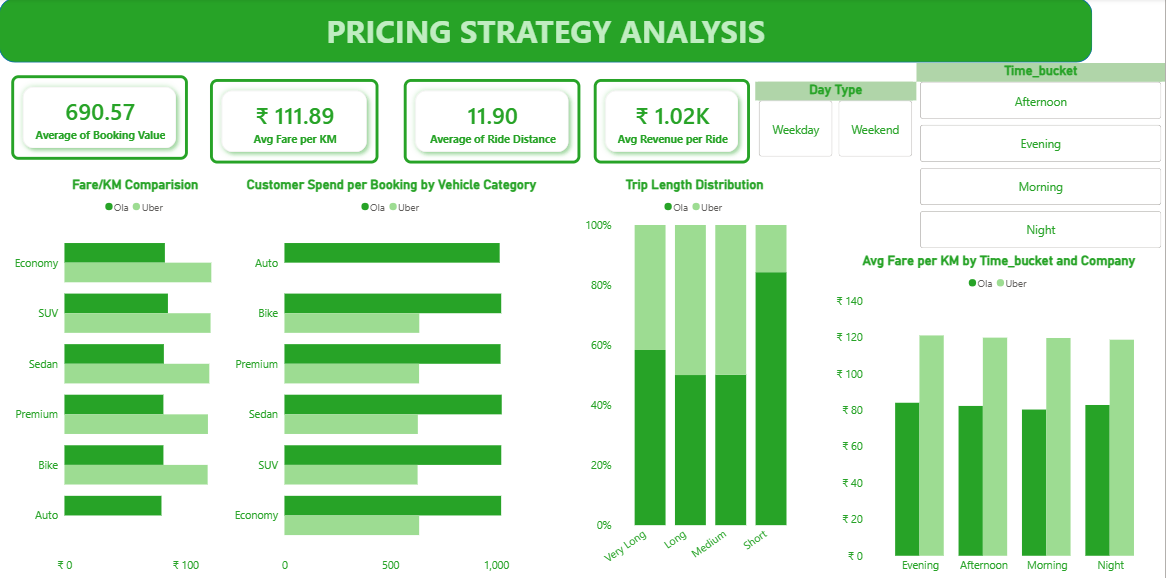

Layout of this report page (visuals, bound fields, positions):
{"tool":"powerbi","page":{"name":"Page 2","canvas":[1600,800],"ordinal":1},"visuals":[{"type":"shape","box":[0,0,1500.3,88.4],"z":0},{"type":"textbox","box":[0,9.6,1500.3,69.1],"z":1000},{"type":"cardVisual","fields":{"Data":["Avg(Total_Data_Ola&Uber.Booking Value)"]},"box":[0,89.2,276.2,150.9],"z":2000},{"type":"cardVisual","fields":{"Data":["Total_Data_Ola&Uber.Avg Fare per KM"]},"box":[272.7,94.3,265.9,150.9],"z":3000},{"type":"cardVisual","fields":{"Data":["Avg(Total_Data_Ola&Uber.Ride Distance)"]},"box":[538.6,94.3,276.2,150.9],"z":4000},{"type":"cardVisual","fields":{"Data":["Total_Data_Ola&Uber.Avg Revenue per Ride"]},"box":[799.3,94.3,248.7,150.9],"z":5000},{"type":"clusteredBarChart","title":"Fare/KM Comparision","fields":{"Category":["Total_Data_Ola&Uber.Vehicle_Category"],"Series":["Total_Data_Ola&Uber.Company"],"Y":["Total_Data_Ola&Uber.Avg Fare per KM"]},"box":[12,245.3,349.9,554],"z":6000},{"type":"hundredPercentStackedColumnChart","title":"Trip Length Distribution","fields":{"Category":["Total_Data_Ola&Uber.Distance Category"],"Series":["Total_Data_Ola&Uber.Company"],"Y":["Avg(Total_Data_Ola&Uber.Ride Distance)"]},"box":[799.3,245.3,310.5,554],"z":7000},{"type":"clusteredBarChart","title":"Customer Spend per Booking by Vehicle Category","fields":{"Category":["Total_Data_Ola&Uber.Vehicle_Category"],"Y":["Avg(Total_Data_Ola&Uber.Booking Value)"],"Series":["Total_Data_Ola&Uber.Company"]},"box":[313.9,245.3,449.4,554],"z":8000},{"type":"advancedSlicerVisual","title":"Day Type","fields":{"Values":["Total_Data_Ola&Uber.Day_Type"]},"box":[1037.7,114.9,221.3,108.1],"z":9000},{"type":"advancedSlicerVisual","fields":{"Values":["Total_Data_Ola&Uber.Time_bucket"]},"box":[1259,89.2,341.3,260.7],"z":10000},{"type":"clusteredColumnChart","fields":{"Category":["Total_Data_Ola&Uber.Time_bucket"],"Y":["Total_Data_Ola&Uber.Avg Fare per KM"],"Series":["Total_Data_Ola&Uber.Company"]},"box":[1144.1,349.9,456.3,449.4],"z":11000}]}

Visuals, with their boxes in screenshot pixels (x1, y1, x2, y2), scaled from the page's 1600x800 canvas onto the 1166x578 screenshot:
shape: 0,0,1093,64
textbox: 0,7,1093,57
cardVisual - Avg(Total_Data_Ola&Uber.Booking Value): 0,64,201,173
cardVisual - Total_Data_Ola&Uber.Avg Fare per KM: 199,68,393,177
cardVisual - Avg(Total_Data_Ola&Uber.Ride Distance): 393,68,594,177
cardVisual - Total_Data_Ola&Uber.Avg Revenue per Ride: 582,68,764,177
"Fare/KM Comparision" clusteredBarChart: 9,177,264,577
"Trip Length Distribution" hundredPercentStackedColumnChart: 582,177,809,577
"Customer Spend per Booking by Vehicle Category" clusteredBarChart: 229,177,556,577
"Day Type" advancedSlicerVisual: 756,83,917,161
advancedSlicerVisual - Total_Data_Ola&Uber.Time_bucket: 917,64,1165,253
clusteredColumnChart - Total_Data_Ola&Uber.Time_bucket x Total_Data_Ola&Uber.Avg Fare per KM: 834,253,1165,577
